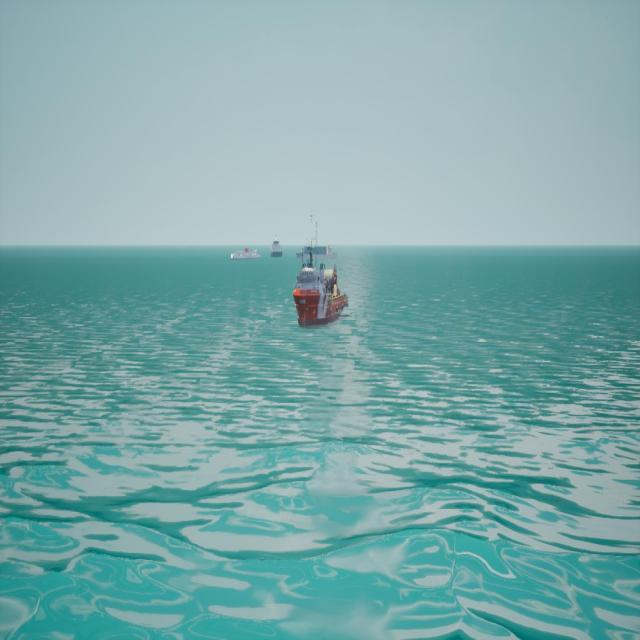tug boat: (294, 218, 346, 329)
